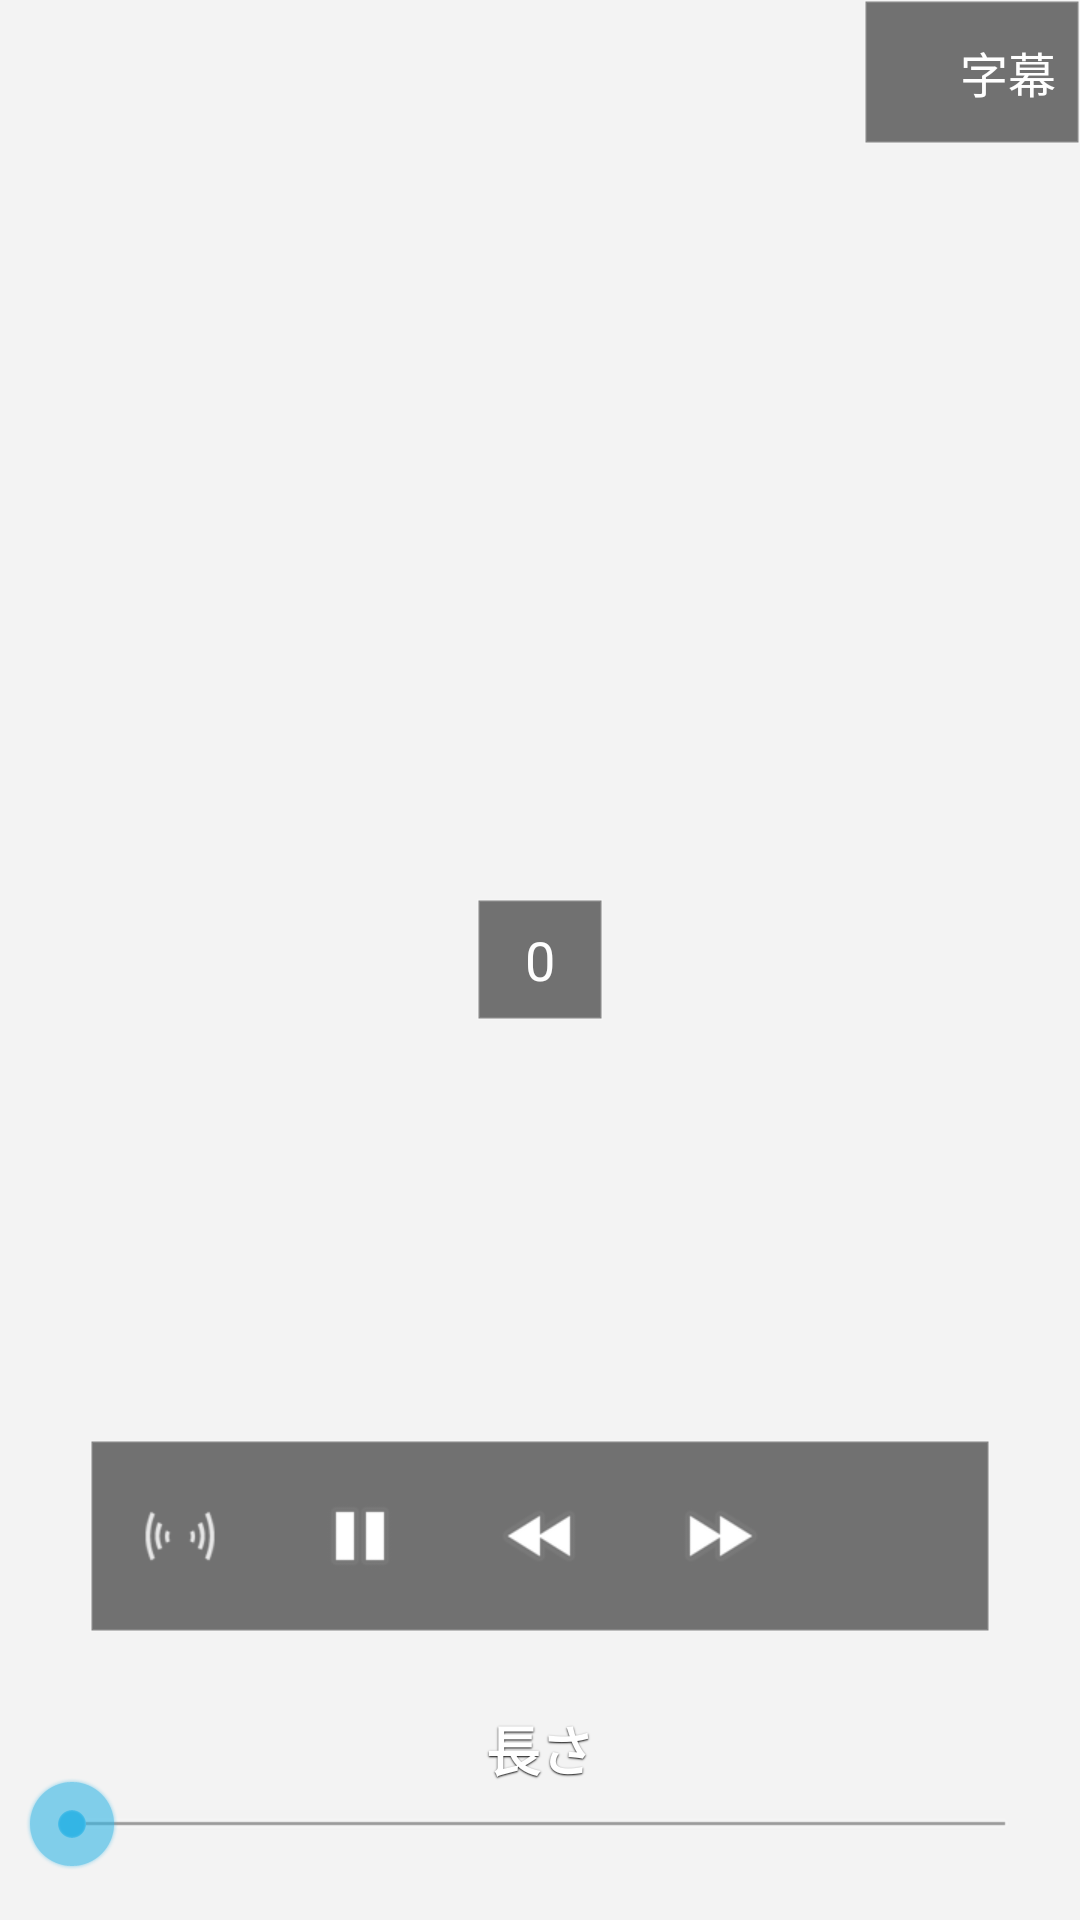

Icons on this 1080 x 1920 Android screen, each with the point to tap as point (x, y):
sound: point (180, 1536)
一時停止: point (360, 1536)
巻き戻し: point (540, 1536)
早送り: point (720, 1536)
